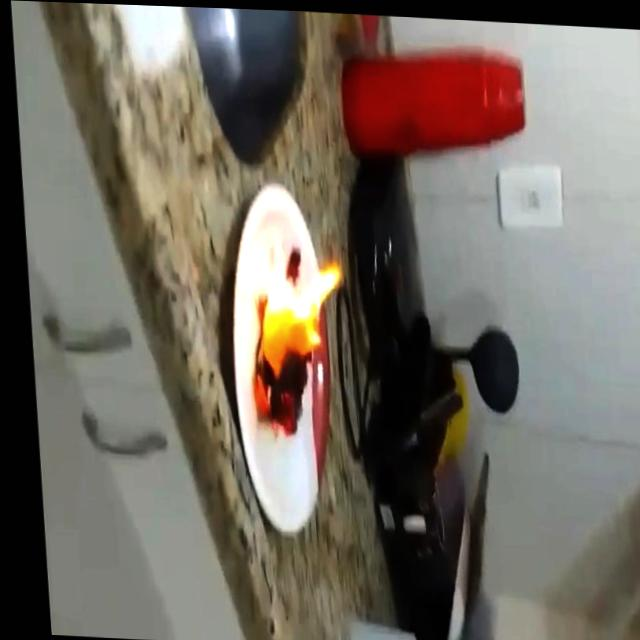helmet: (236, 252, 349, 437)
